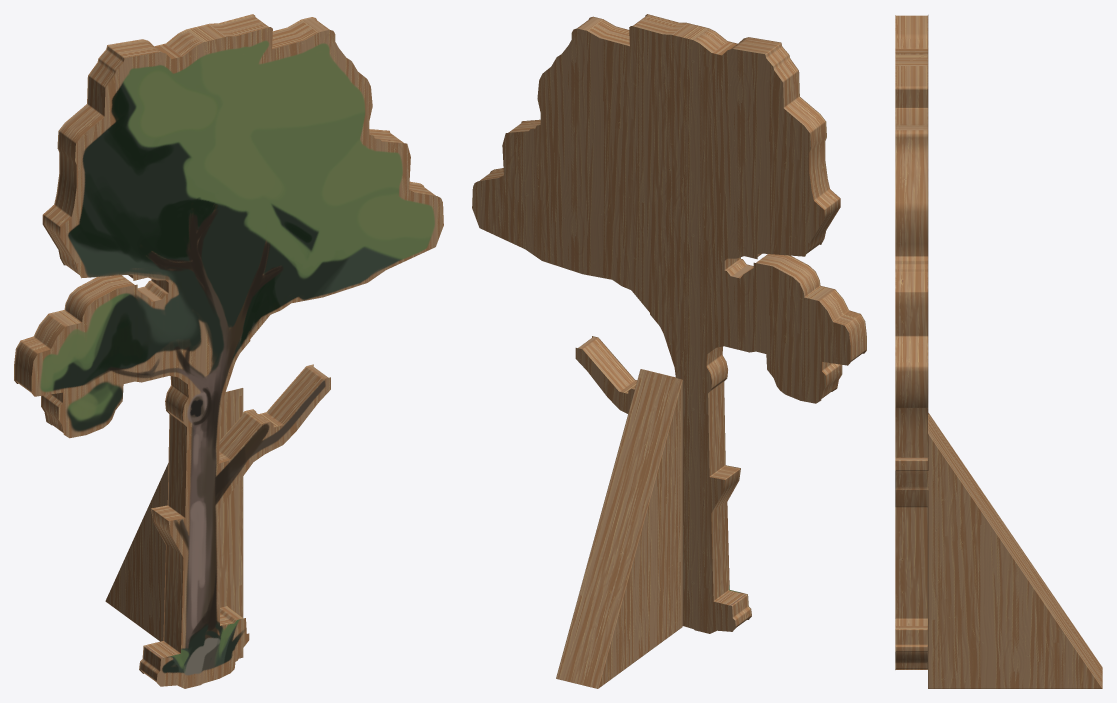
The model's file is deciduous.glb.
3 renders of one model, left to right at view 1: azimuth 30°, elevation 25°; view 2: azimuth 150°, elevation 25°; view 3: azimuth 270°, elevation 25°, orthographic. The views are drawn at different scales.
Visible parts, largest first — view 1: deciduous_Block, deciduous_RearBrace; view 2: deciduous_Block, deciduous_RearBrace; view 3: deciduous_RearBrace, deciduous_Block.
Part boxes in pixels (box(x1,y1,x2,y2)): deciduous_Block: box(14, 14, 443, 688); deciduous_RearBrace: box(105, 388, 243, 658); deciduous_Block: box(472, 14, 866, 633); deciduous_RearBrace: box(556, 369, 682, 688); deciduous_RearBrace: box(928, 413, 1102, 688); deciduous_Block: box(895, 15, 928, 669).
Size of the model in its own units: 2.85 by 4.27 by 1.31.
1 material, 1 textured.
